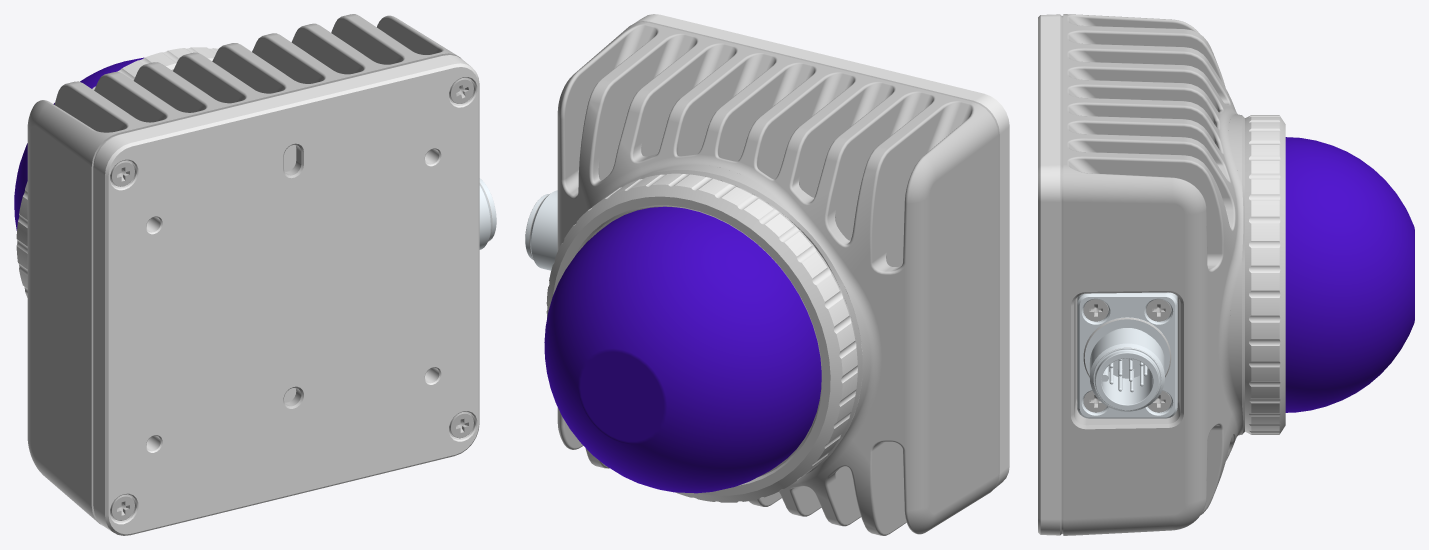
File: Mid360.glb
The picture shows the model from 3 angles, left to right: view 1: azimuth 30°, elevation 25°; view 2: azimuth 150°, elevation 25°; view 3: azimuth 270°, elevation 25°; orthographic projection. The views are drawn at different scales.
Parts seen in each view (by area): view 1: 实体1.007, 实体14, 实体1.005, 实体1.006; view 2: 实体14, 实体1.005, 实体1.007, 实体1.006, 实体15; view 3: 实体14, 实体1.005, 实体1.007, 实体1.006, 实体10, 实体12.
Part boxes in pixels (x1,y1,x2,y2): 实体1.007: (93,55,479,535); 实体14: (27,14,461,524); 实体1.005: (14,47,218,297); 实体1.006: (479,178,496,249); 实体14: (557,22,998,535); 实体1.005: (544,173,857,502); 实体1.007: (634,14,1009,490); 实体1.006: (525,190,557,270); 实体15: (843,284,870,435); 实体14: (1061,14,1244,535); 实体1.005: (1245,115,1414,434); 实体1.007: (1038,14,1061,535); 实体1.006: (1077,292,1177,418); 实体10: (1146,299,1171,321); 实体12: (1083,299,1108,321).
Size of the model in its own units: 72.74 by 64.87 by 60.1.
